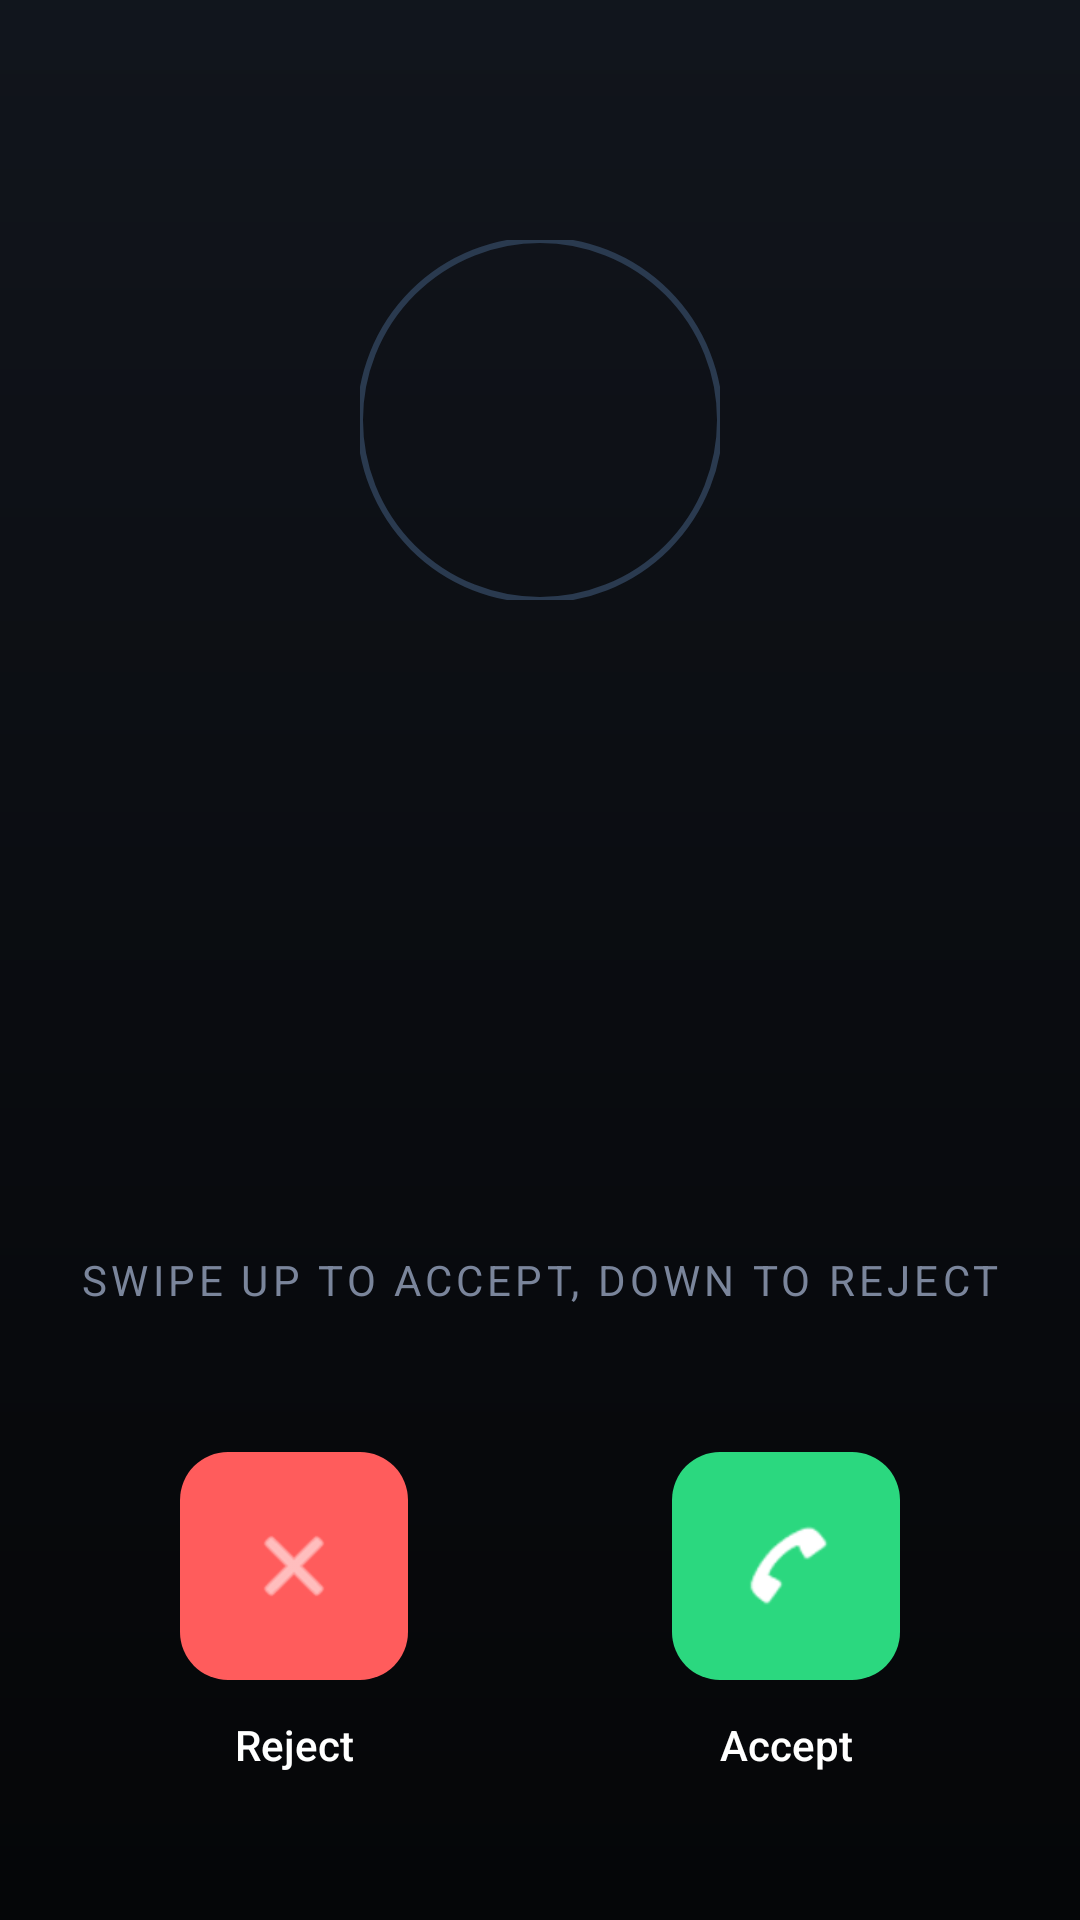

Locate icon controls on the screen. Image size 1080w x 1920h, boxes as bbox=(x1, y1, x2, y2).
close clear cancel: bbox=(180, 1452, 408, 1680)
sym action call: bbox=(672, 1452, 900, 1680)
